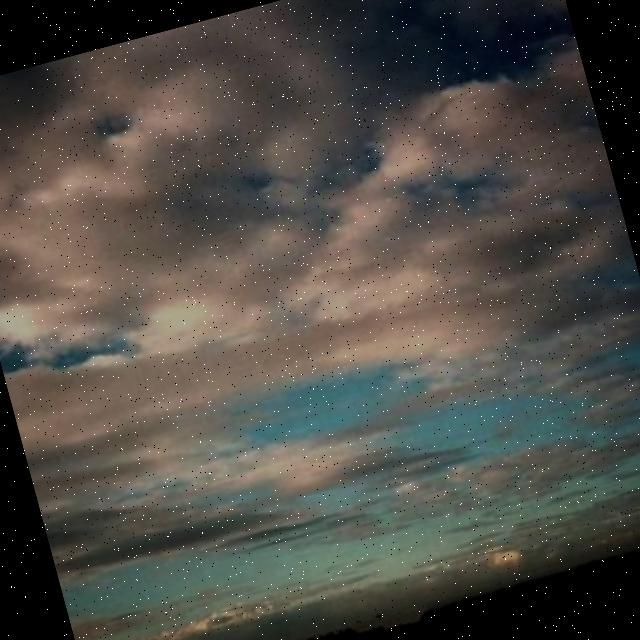Sc: (1, 1, 640, 609)
